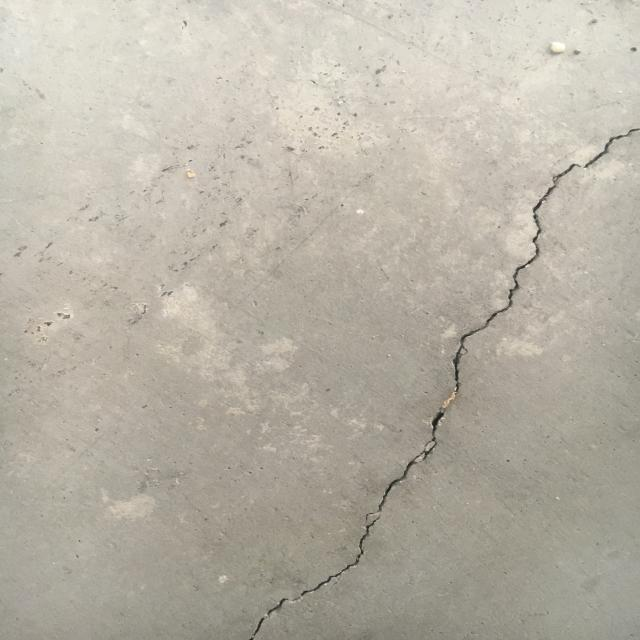Rachadura: (295, 128, 640, 600), (250, 599, 290, 640)
